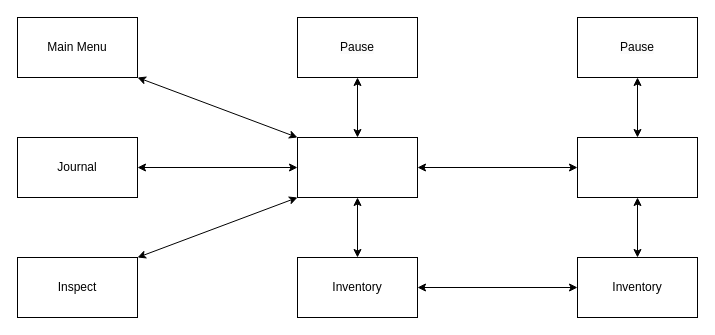
Some shapes in this 715 by 335 pixel diagram are drawn without their labels. Each missing label, with the centre of its shape:
Game Scene: [357,167]
Minigame: [637,167]
